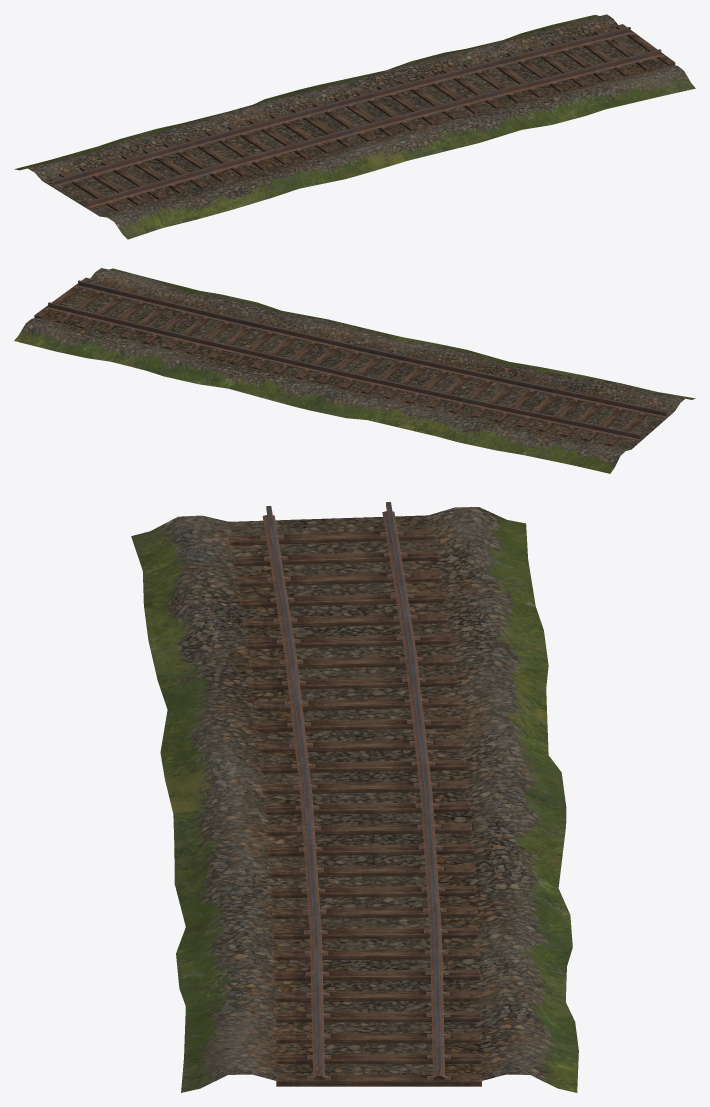
File: Rail1.fbx
The picture shows the model from 3 angles, top to bottom: view 1: azimuth 30°, elevation 25°; view 2: azimuth 150°, elevation 25°; view 3: azimuth 270°, elevation 25°; orthographic projection. The views are drawn at different scales.
Parts seen in each view (by area): view 1: SM_d_114_rail_01a; view 2: SM_d_114_rail_01a; view 3: SM_d_114_rail_01a.
Boxes of the visible parts, box(x1,y1,x2,y2) form: SM_d_114_rail_01a: box(14, 14, 695, 239); SM_d_114_rail_01a: box(14, 268, 695, 473); SM_d_114_rail_01a: box(131, 502, 578, 1092).
Size of the model in its own units: 2032 by 42.74 by 672.
Materials: 1 (1 with a texture image).
